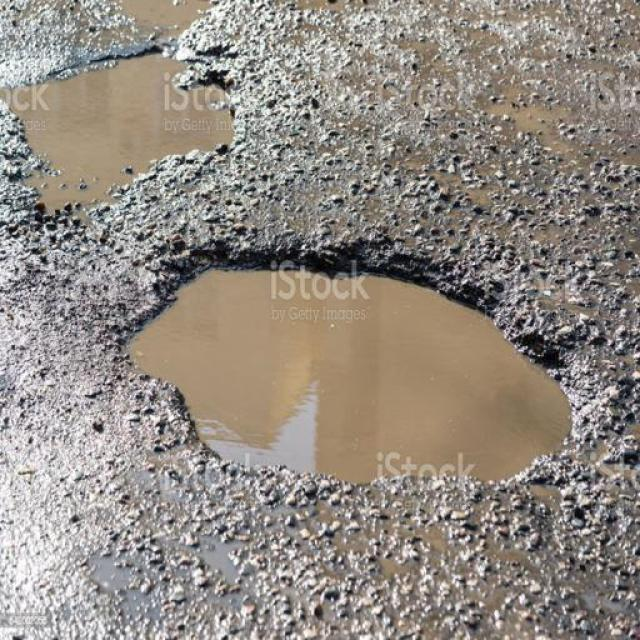puddle: (180, 262, 592, 488), (20, 80, 253, 186)
